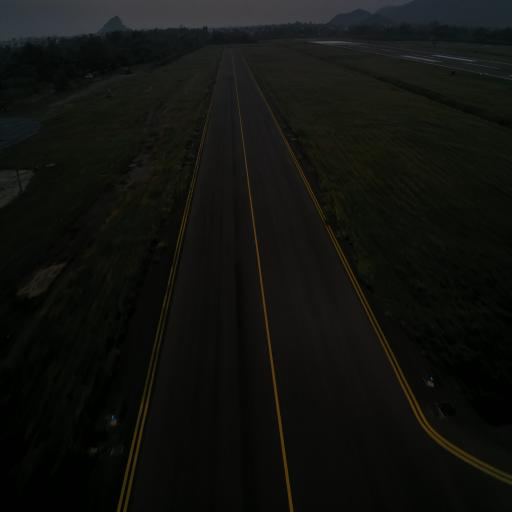on: (109, 412, 118, 430), (427, 371, 435, 388)
